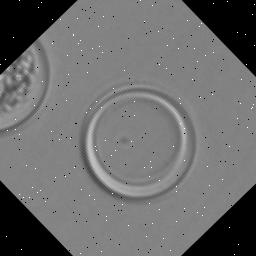picoshell: (81, 83, 197, 200), (0, 39, 50, 132)
